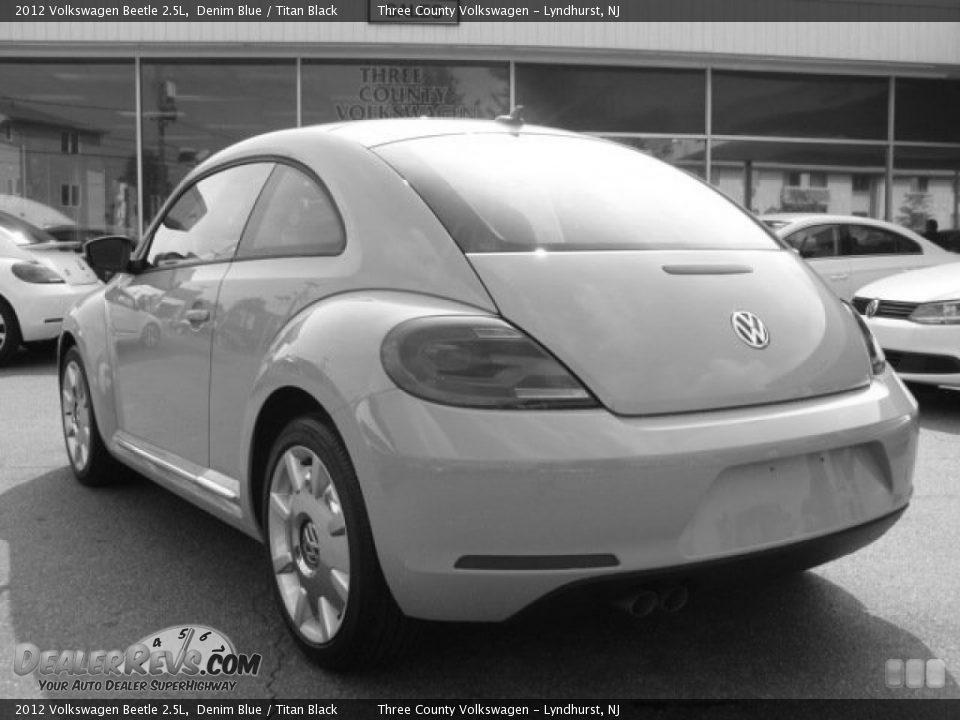car: (55, 102, 930, 676)
